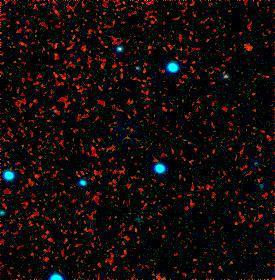star: (233, 31, 263, 61)
